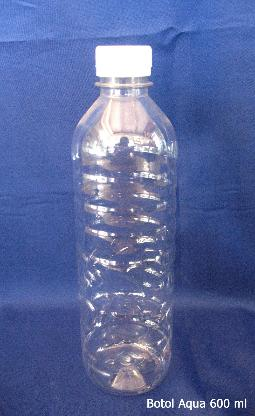Plastic Bottle: (71, 44, 179, 396)
